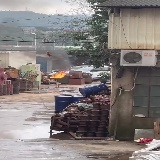fire: (50, 71, 66, 78)
